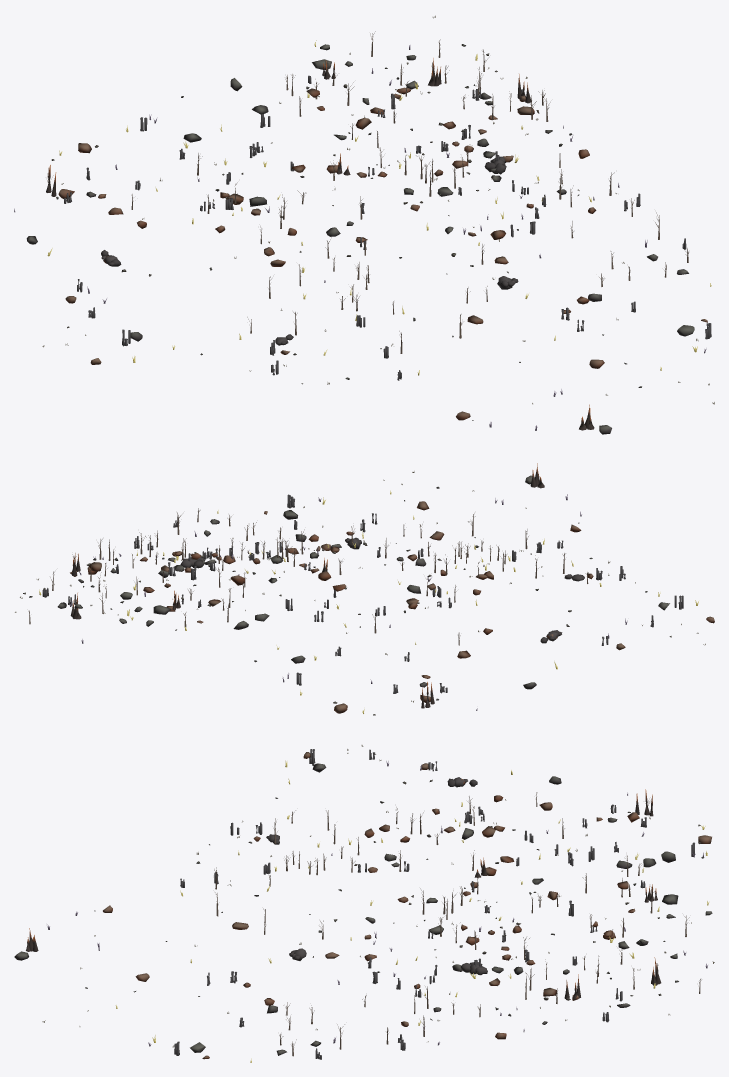
The model's file is ash_land_scatter_c17_28.glb.
3 renders of one model, top to bottom at view 1: azimuth 30°, elevation 25°; view 2: azimuth 150°, elevation 25°; view 3: azimuth 270°, elevation 25°, orthographic. The views are drawn at different scales.
Parts seen in each view (by area): view 1: ash_land_scatter_c17_28; view 2: ash_land_scatter_c17_28; view 3: ash_land_scatter_c17_28.
Part boxes in pixels (x1=…): ash_land_scatter_c17_28: x1=14, y1=15, x2=714, y2=434; ash_land_scatter_c17_28: x1=15, y1=463, x2=714, y2=715; ash_land_scatter_c17_28: x1=14, y1=745, x2=714, y2=1062.
Bounding box in the file's own units: 228 × 46.49 × 239.
